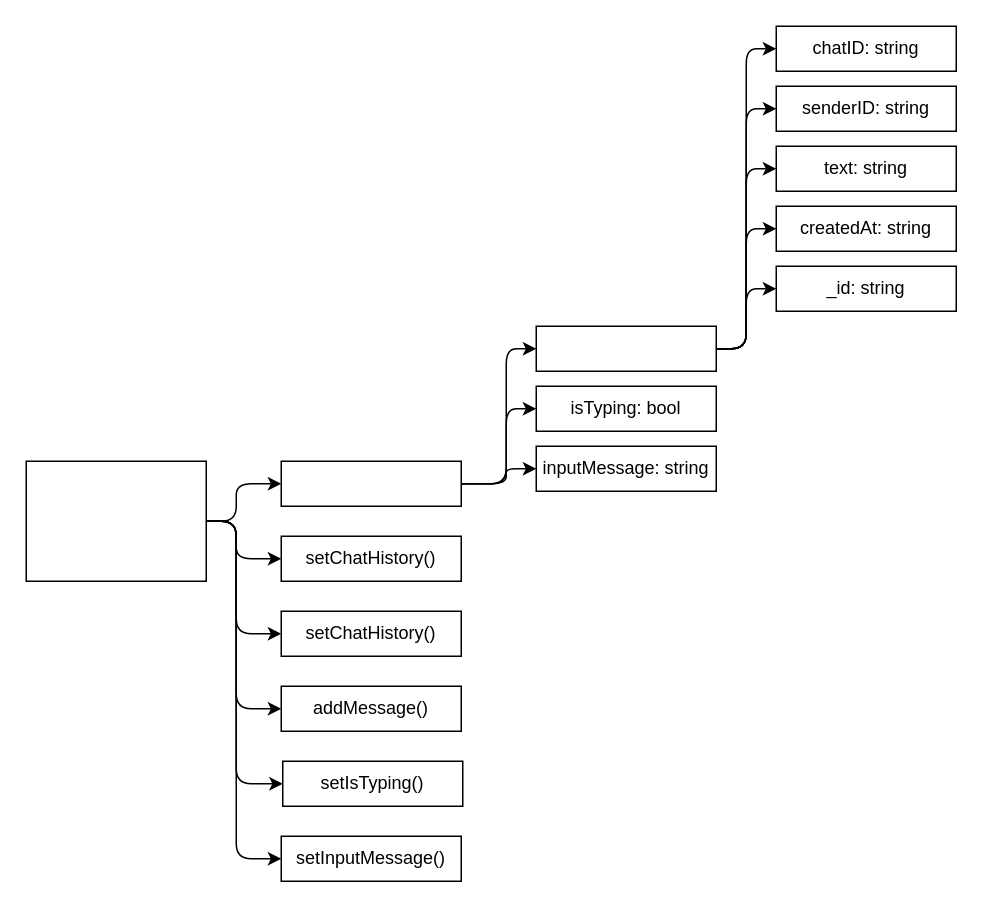
Image size: 983x908. Some labels were removed from this diagram. The centre of each missing label's shape, as x and y in pixels:
messages[]: the point at 625,348
messagesHistory: the point at 370,483
useMessagesStore: the point at 115,520
